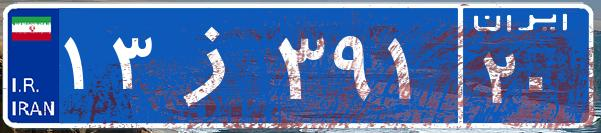0: (525, 38, 570, 115)
1: (385, 28, 445, 110), (57, 26, 110, 107)
2: (475, 38, 525, 113)
3: (273, 28, 330, 110), (110, 28, 158, 105)
9: (330, 28, 385, 110)
ز: (158, 15, 273, 115)
